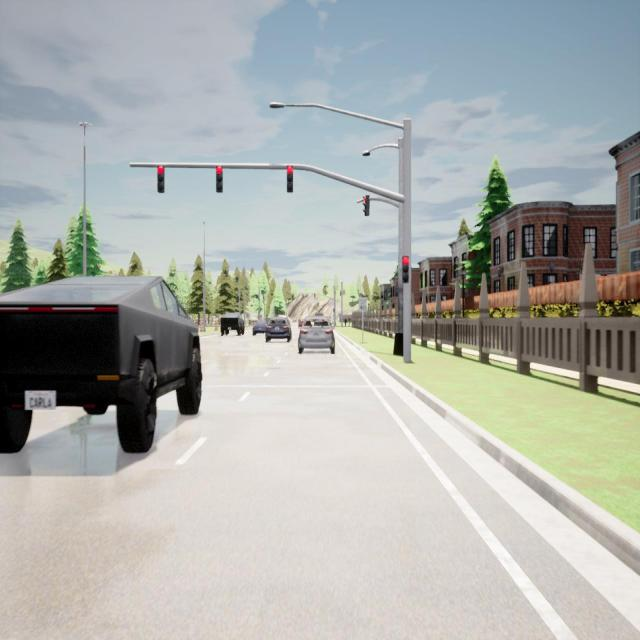Pedestrian: (344, 317, 347, 327), (348, 315, 350, 327)
Traffic_Signs: (359, 298, 366, 310)
Vehicle: (0, 277, 202, 452), (298, 316, 335, 354), (264, 317, 292, 343), (220, 313, 244, 335), (251, 318, 267, 336), (299, 320, 303, 327)
traffic_light: (157, 166, 165, 192), (402, 256, 409, 283), (287, 165, 293, 192), (216, 166, 222, 192), (362, 196, 370, 215), (292, 294, 294, 298), (302, 294, 304, 298), (340, 292, 341, 296), (314, 294, 315, 297), (334, 309, 334, 312)
